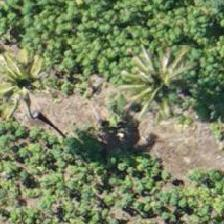coconut_tree: (113, 32, 203, 122), (0, 33, 67, 123)
